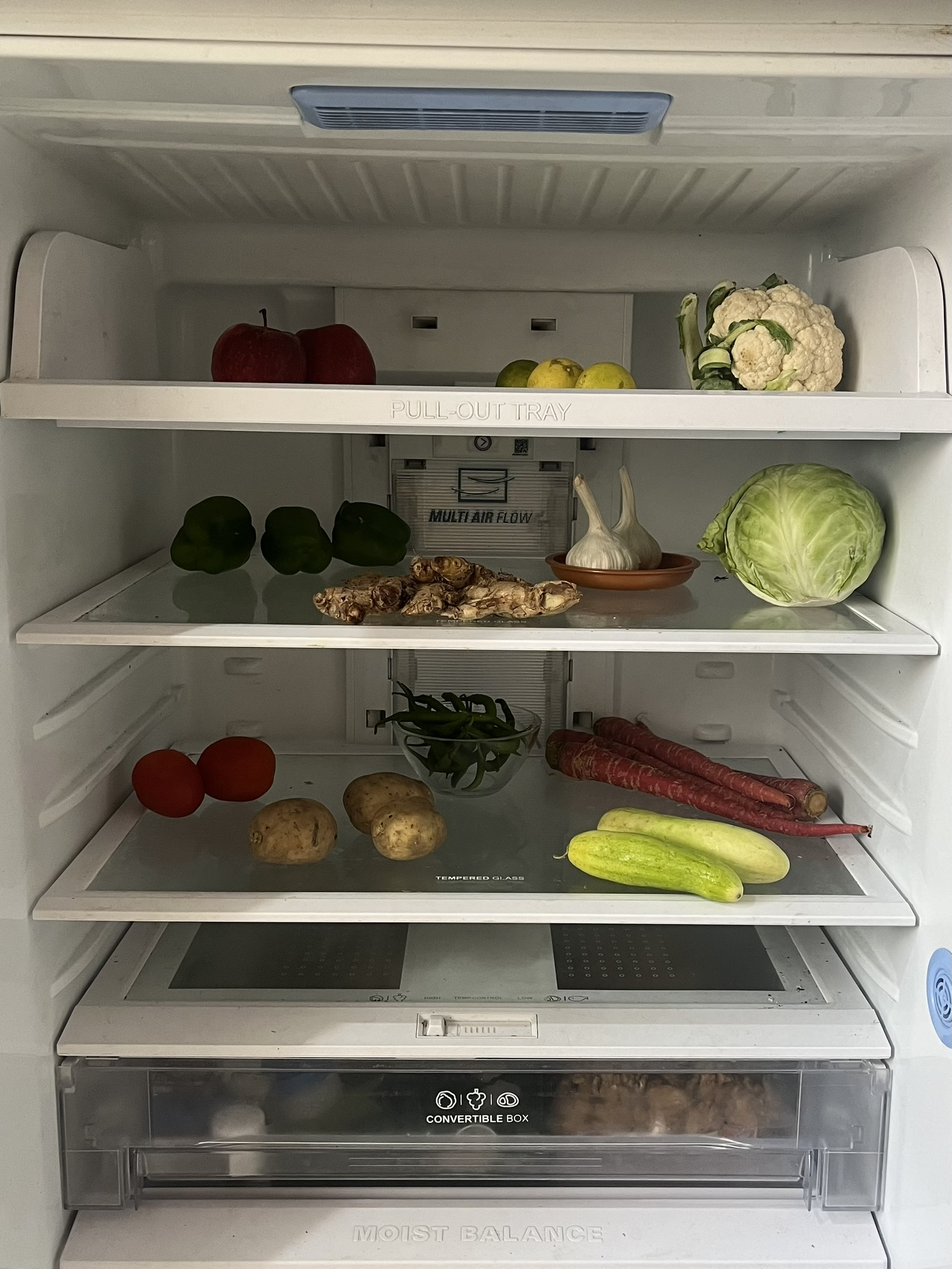apple: (218, 317, 372, 377)
cabbage: (701, 464, 886, 608)
capsicum: (175, 497, 413, 574)
carrots: (540, 715, 862, 835)
cauliflower: (676, 273, 844, 393)
chillies: (383, 686, 523, 793)
cucumber: (568, 810, 794, 902)
garlic: (564, 469, 662, 570)
ginger: (317, 554, 582, 626)
lemon: (497, 360, 639, 387)
potato: (251, 775, 444, 864)
tomato: (131, 733, 274, 821)
